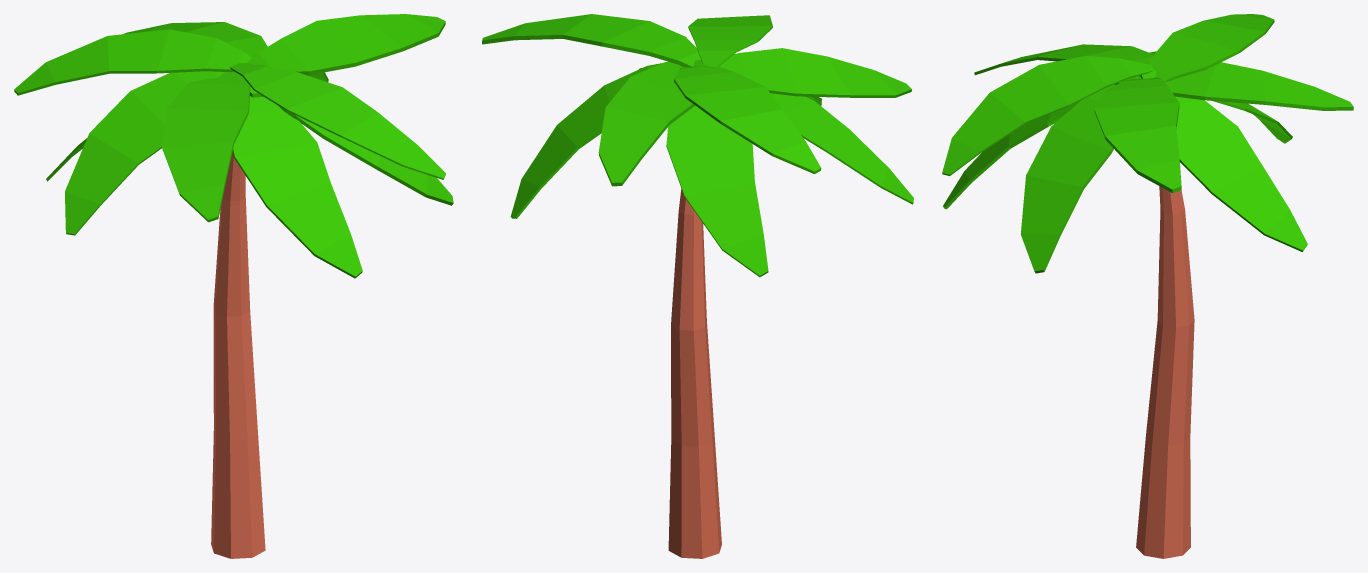
The model's file is palm1.fbx.
3 views of the same model, side by side, from view 1: azimuth 30°, elevation 25°; view 2: azimuth 150°, elevation 25°; view 3: azimuth 270°, elevation 25° (orthographic). The views are drawn at different scales.
Visible parts, largest first — view 1: palm1; view 2: palm1; view 3: palm1.
Part boxes in pixels (bbox=[...]): palm1: bbox=[14, 14, 453, 558]; palm1: bbox=[482, 14, 913, 558]; palm1: bbox=[942, 14, 1353, 558].
Size of the model in its own units: 718 by 837 by 643.
